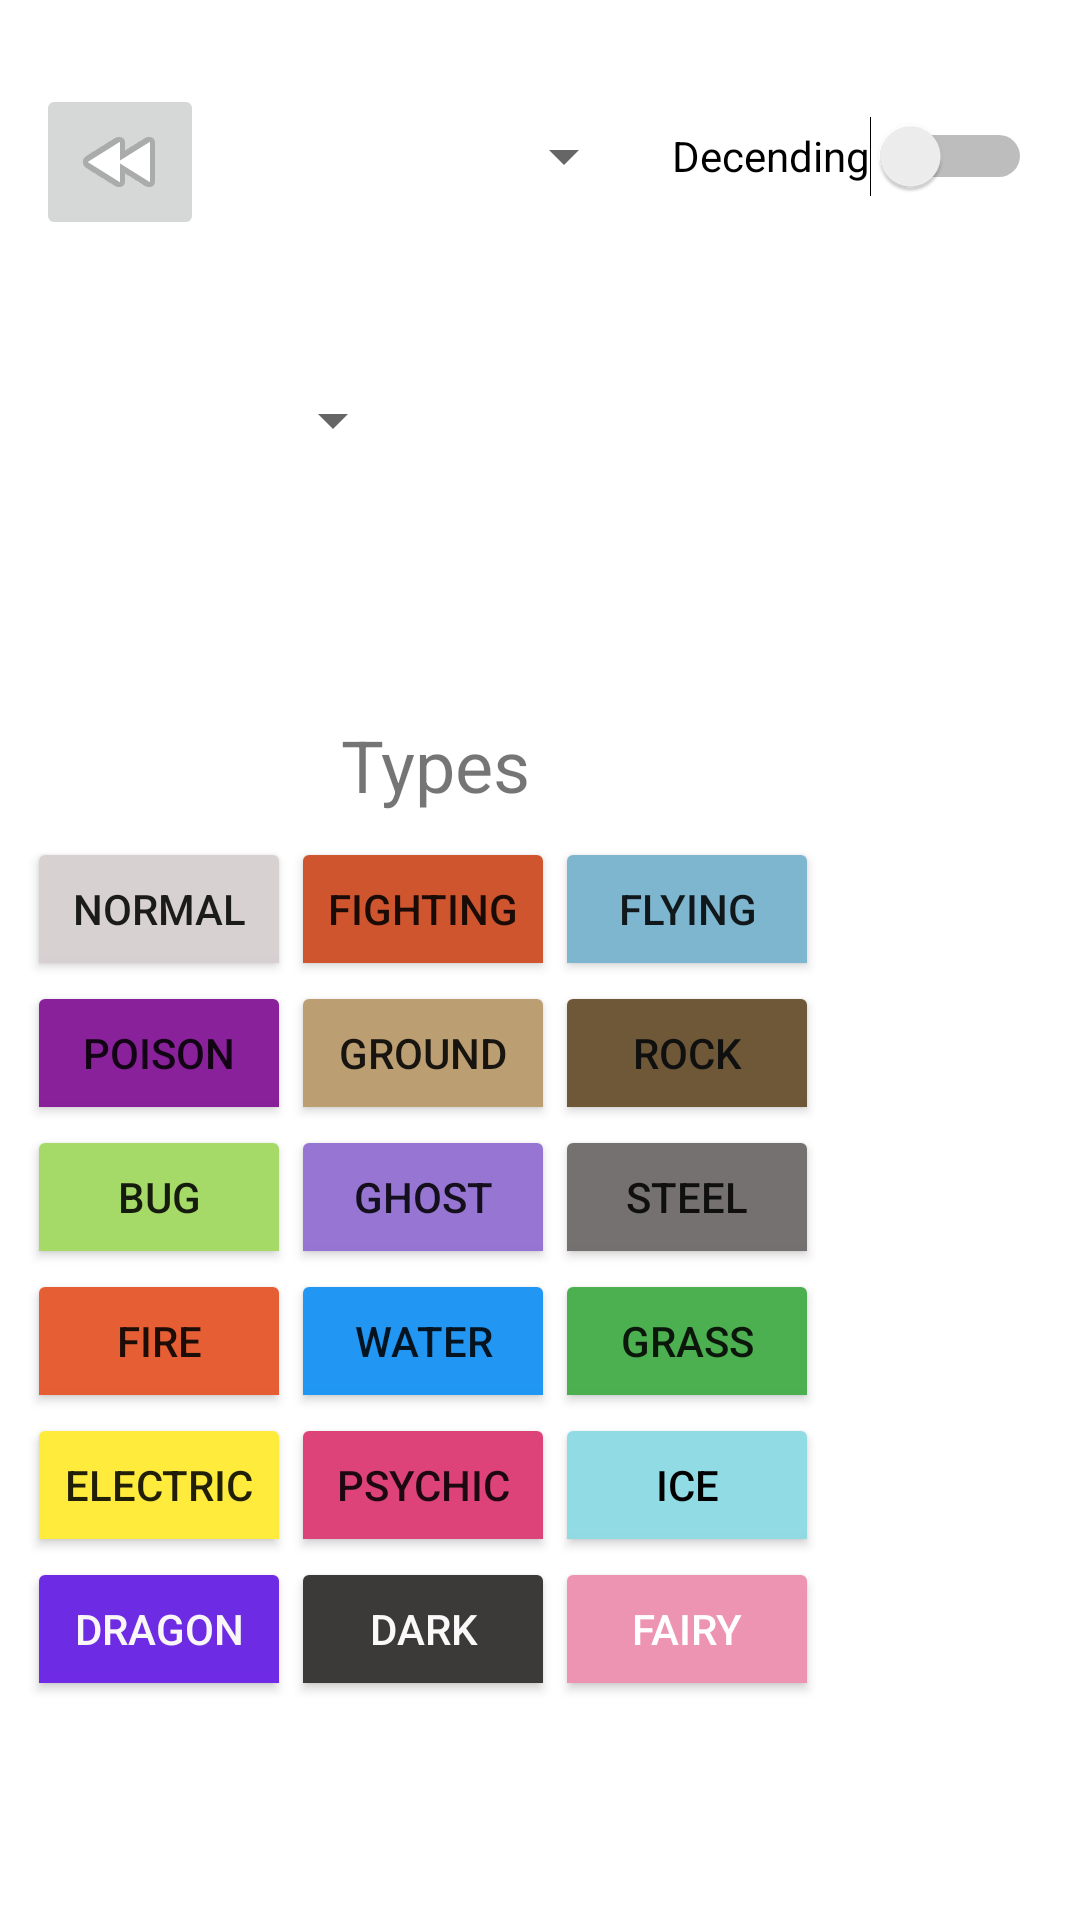

Icon bounding boxes for this 1080x1920 phone screenshot, format (x1, y1, x2, y2):
rew: (48, 102, 192, 222)
